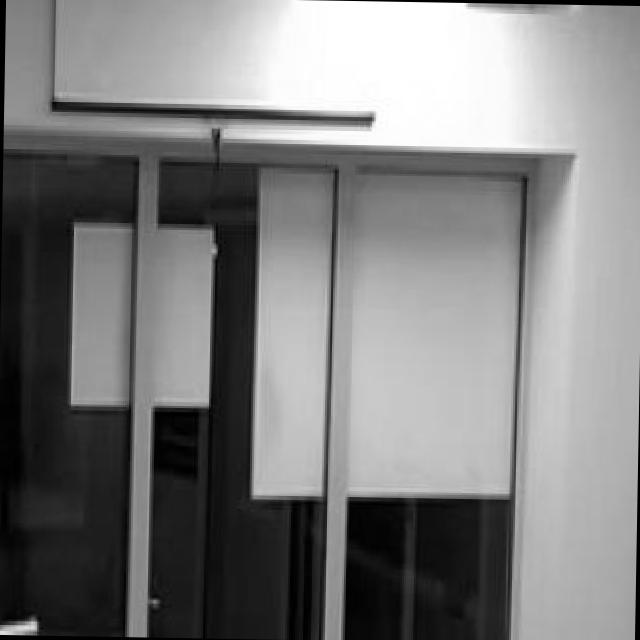Guns: (0, 584, 57, 635)
